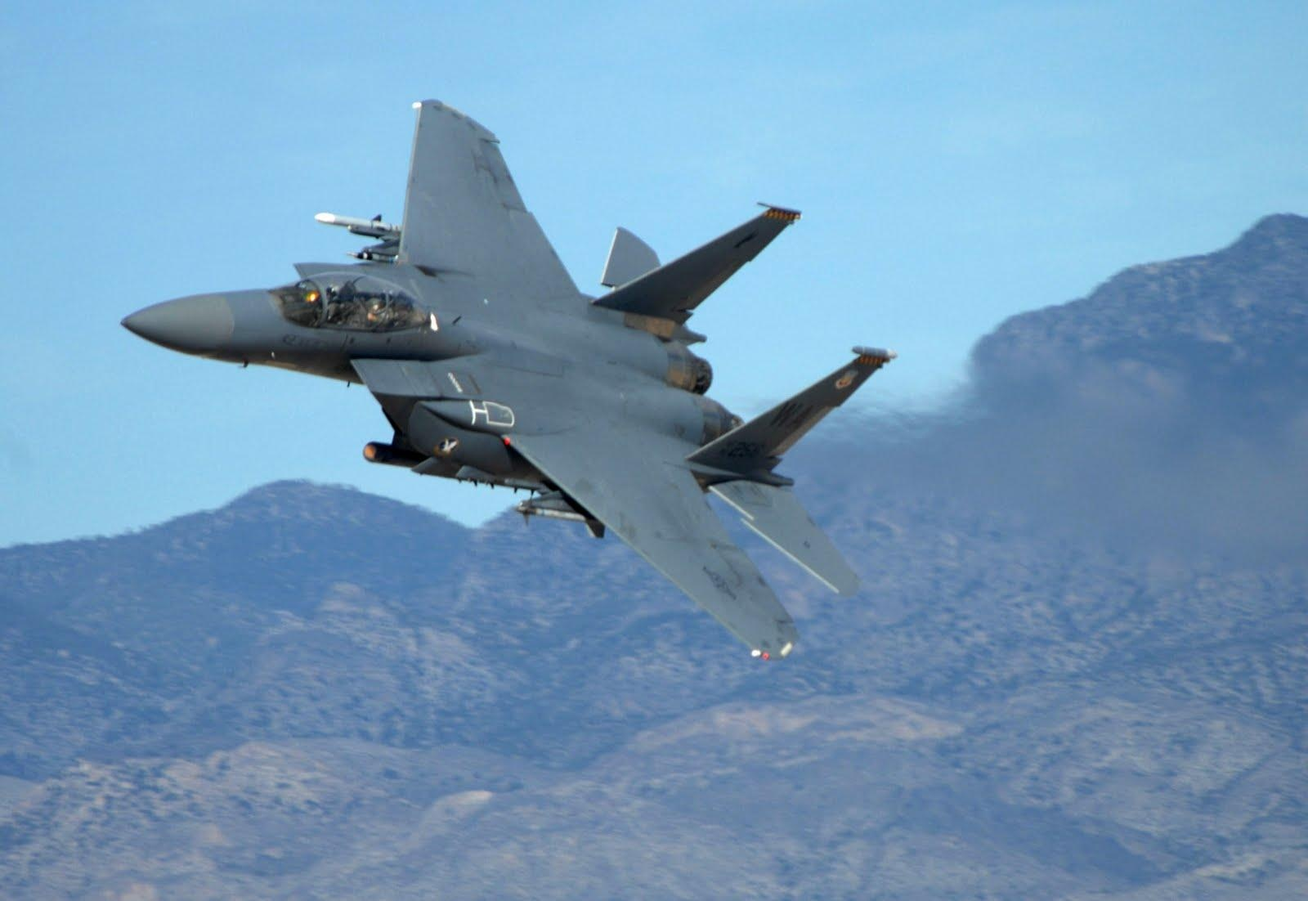aircraft: (123, 99, 894, 664)
